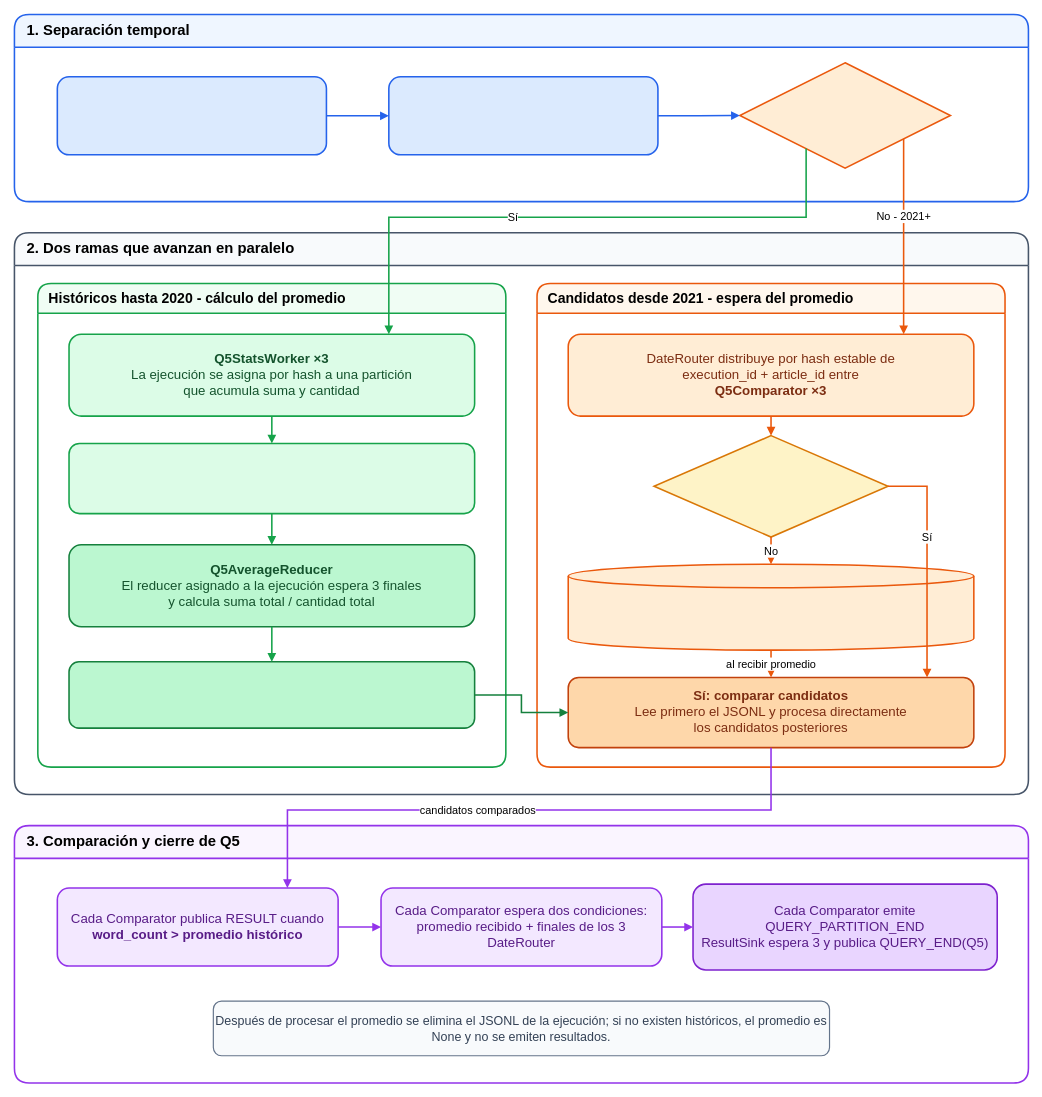
The diagram is 1042 pixels wide and 1097 high, and some of its shapes have lost their labels. Each missing label, with the centre of its shape:
"Al finalizar, las 3 particiones emiten Q5_PARTIAL_STATS + Q5_STATS_PARTITION_END" goes at (271,478).
"No: CandidateBuffer JSONL subdirectorio por Comparator archivo por execution_id" goes at (770,607).
"Publica Q5_AVERAGE en las 3 colas de Comparator" goes at (271,695).
"Q4Q5WordProjector ×3 article_id - URL - fecha - word_count" goes at (191,115).
"Q5DateRouter ×3 Espera los 3 finales upstream y separa cada artículo por fecha" goes at (523,115).
"¿Año ≤ 2020?" goes at (845,115).
"¿Llegó Q5_AVERAGE?" goes at (770,485).
